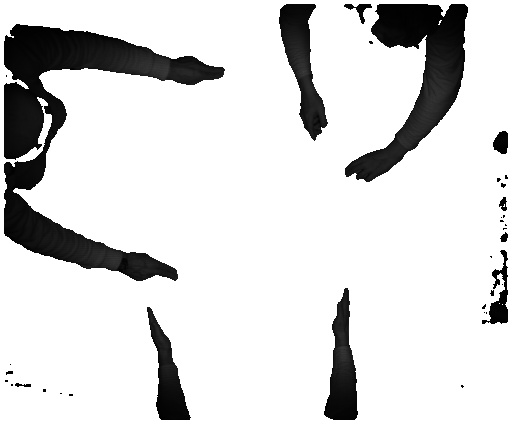hand: (126, 248, 183, 287), (173, 56, 231, 87), (344, 149, 394, 183), (299, 86, 327, 143)
spine: (144, 304, 175, 360), (328, 288, 351, 342)
